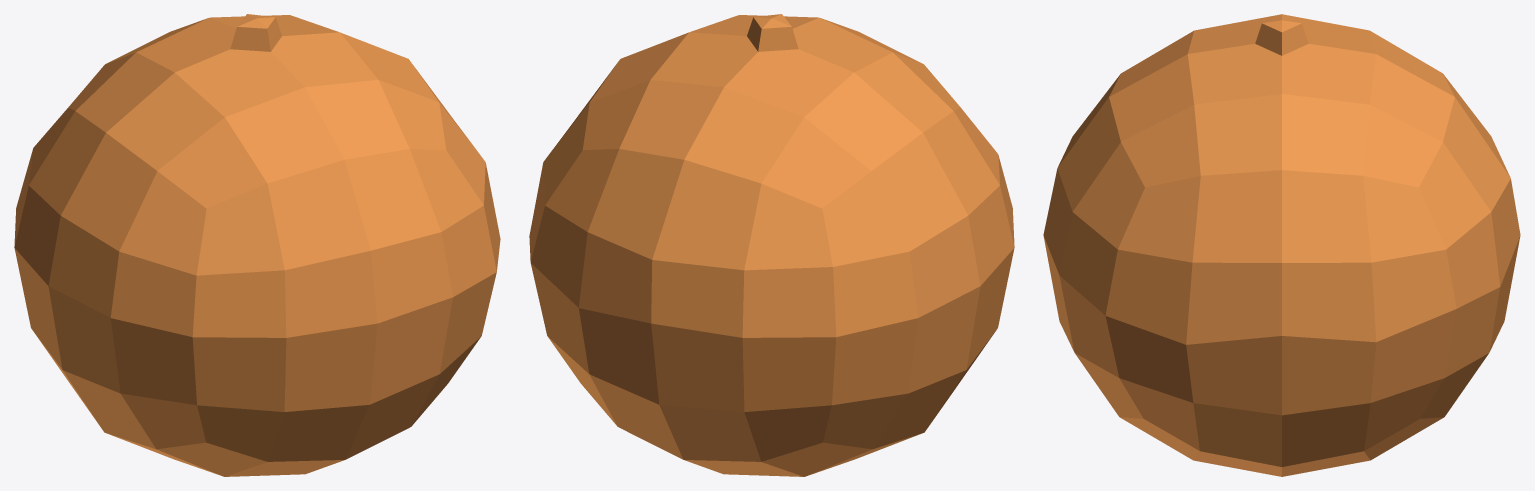
The model's file is orange.glb.
The picture shows the model from 3 angles, left to right: view 1: azimuth 30°, elevation 25°; view 2: azimuth 150°, elevation 25°; view 3: azimuth 270°, elevation 25°; orthographic projection.
Visible parts, largest first — view 1: Orange_Crop; view 2: Orange_Crop; view 3: Orange_Crop.
Boxes of the visible parts, bbox=[...] form: Orange_Crop: bbox=[14, 14, 500, 476]; Orange_Crop: bbox=[529, 14, 1014, 476]; Orange_Crop: bbox=[1043, 14, 1520, 476].
Bounding box in the file's own units: 0.1513 × 0.1508 × 0.1513.
